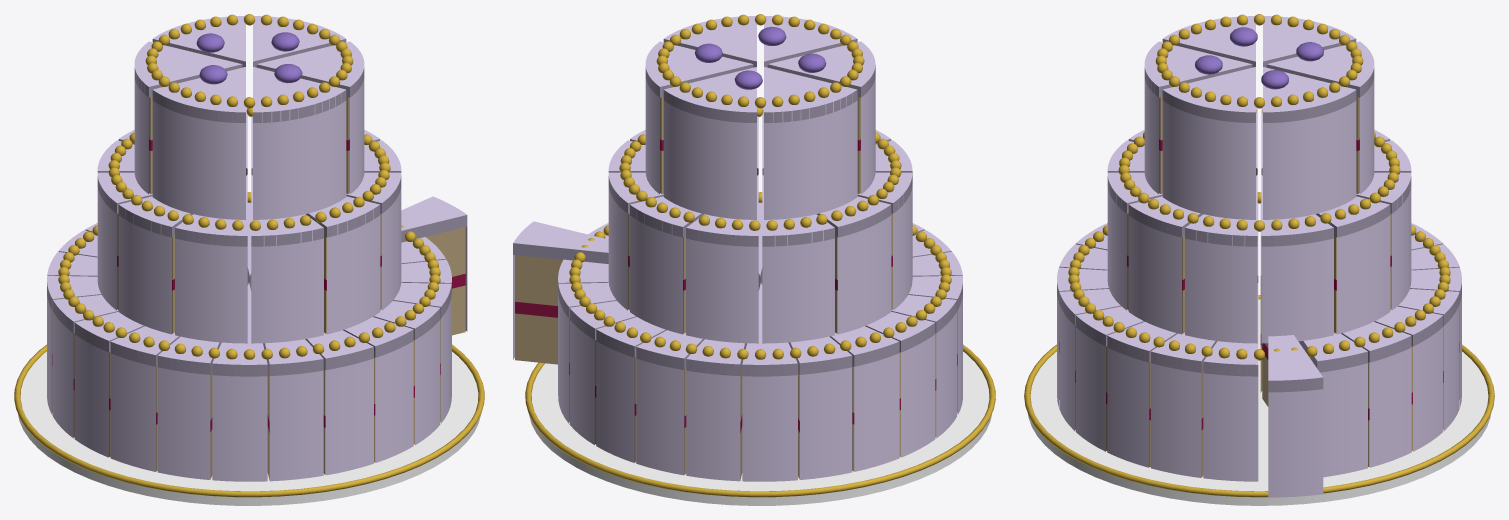
Rendered from torta-30cm-10alto-3p-40porc-lavanda.glb.
3 views of the same model, side by side, from view 1: azimuth 30°, elevation 25°; view 2: azimuth 150°, elevation 25°; view 3: azimuth 270°, elevation 25° (orthographic).
Size of the model in its own units: 0.3815 by 0.3056 by 0.365.
